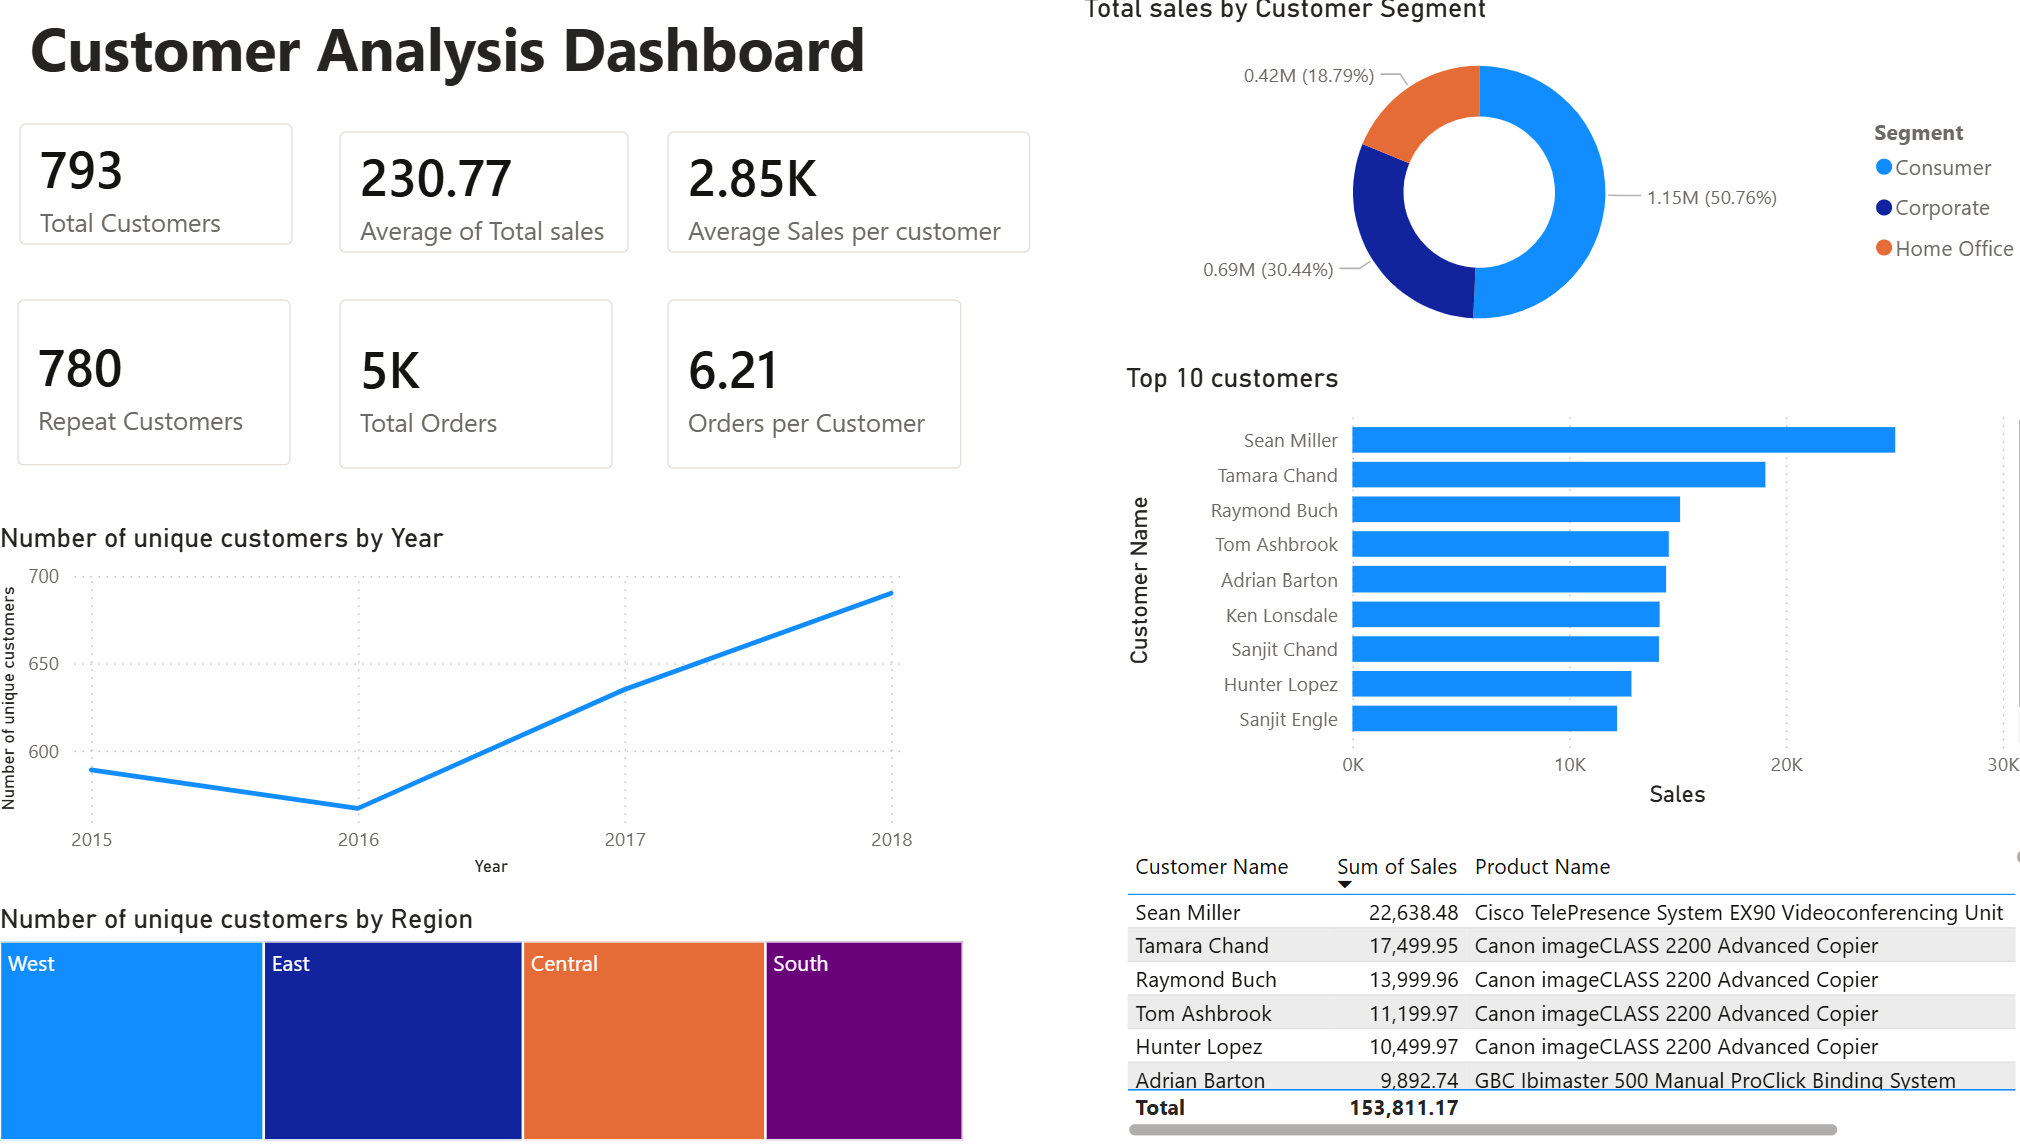

This screenshot's page, from the dashboard's own definition file:
{"tool":"powerbi","page":{"name":"Customer Analysis Dashboard","canvas":[1280,720],"ordinal":1},"visuals":[{"type":"clusteredBarChart","title":"Top 10 customers","fields":{"Category":["Sheet1.Customer Name"],"Y":["Sum(Sheet1.Sales)"]},"box":[705.4,231.2,575.9,282.7],"z":0},{"type":"cardVisual","fields":{"Data":["Sheet1.Total Customers"]},"box":[1.7,65,205,110],"z":1000},{"type":"cardVisual","fields":{"Data":["Sheet1.Repeat Customers"]},"box":[0,175,205,138.3],"z":2000},{"type":"donutChart","title":"Total sales by Customer Segment","fields":{"Category":["Sheet1.Segment"],"Y":["Sum(Sheet1.Sales)"]},"box":[679,0,601,231.2],"z":3000},{"type":"treemap","fields":{"Group":["Sheet1.Region"],"Values":["Count(Sheet1.Customer ID)"]},"box":[1.7,568.3,611.7,153.3],"z":4000},{"type":"cardVisual","fields":{"Data":["Avg(Sheet1.Sales)"]},"box":[201.7,70,215,110],"z":5000},{"type":"cardVisual","fields":{"Data":["Sheet1.Total Orders"]},"box":[201.7,175,205,140],"z":6000},{"type":"cardVisual","fields":{"Data":["Sheet1.Orders per Customer"]},"box":[406.7,175,218.3,140],"z":7000},{"type":"cardVisual","fields":{"Data":["Sheet1.Average Sales per Customer"]},"box":[406.7,70,261.7,110],"z":8000},{"type":"lineChart","fields":{"Category":["Sheet1.Cust_year"],"Y":["Count(Sheet1.Customer ID)"]},"box":[1.7,331.7,580,225],"z":9000},{"type":"tableEx","fields":{"Values":["Sheet1.Customer Name","Sum(Sheet1.Sales)","Sheet1.Product Name"]},"box":[705,530,575,190],"z":10000},{"type":"textbox","box":[20,3.3,580,66.7],"z":12000}]}

Visuals, with their boxes in screenshot pixels (x1, y1, x2, y2), scaled from the page's 1280x720 canvas onto the 2020x1144 screenshot:
"Top 10 customers" clusteredBarChart: 1113, 367, 2019, 817
cardVisual - Sheet1.Total Customers: 3, 103, 326, 278
cardVisual - Sheet1.Repeat Customers: 0, 278, 324, 498
"Total sales by Customer Segment" donutChart: 1072, 0, 2019, 367
treemap - Sheet1.Region x Count(Sheet1.Customer ID): 3, 903, 968, 1143
cardVisual - Avg(Sheet1.Sales): 318, 111, 658, 286
cardVisual - Sheet1.Total Orders: 318, 278, 642, 500
cardVisual - Sheet1.Orders per Customer: 642, 278, 986, 500
cardVisual - Sheet1.Average Sales per Customer: 642, 111, 1055, 286
lineChart - Sheet1.Cust_year x Count(Sheet1.Customer ID): 3, 527, 918, 885
tableEx - Sheet1.Customer Name x Sum(Sheet1.Sales): 1113, 842, 2019, 1143
textbox: 32, 5, 947, 111
